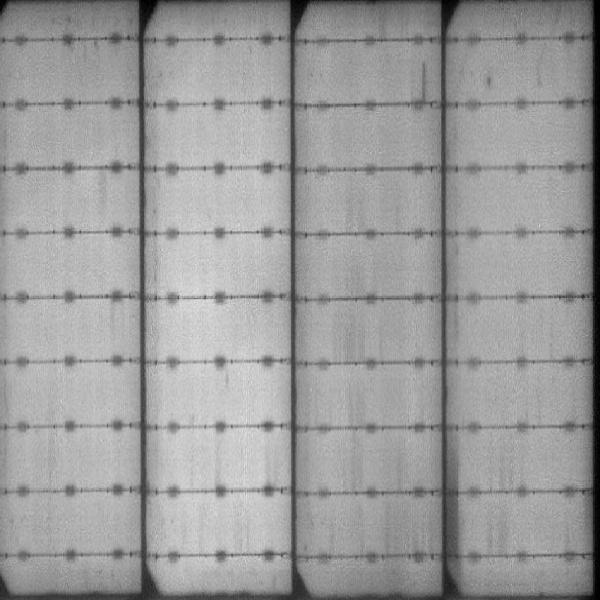scratch: (418, 58, 429, 106)
